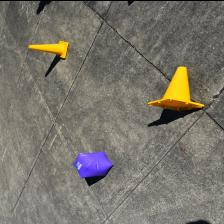cone: (147, 66, 205, 110), (28, 40, 68, 58)
cube: (73, 150, 114, 178)
